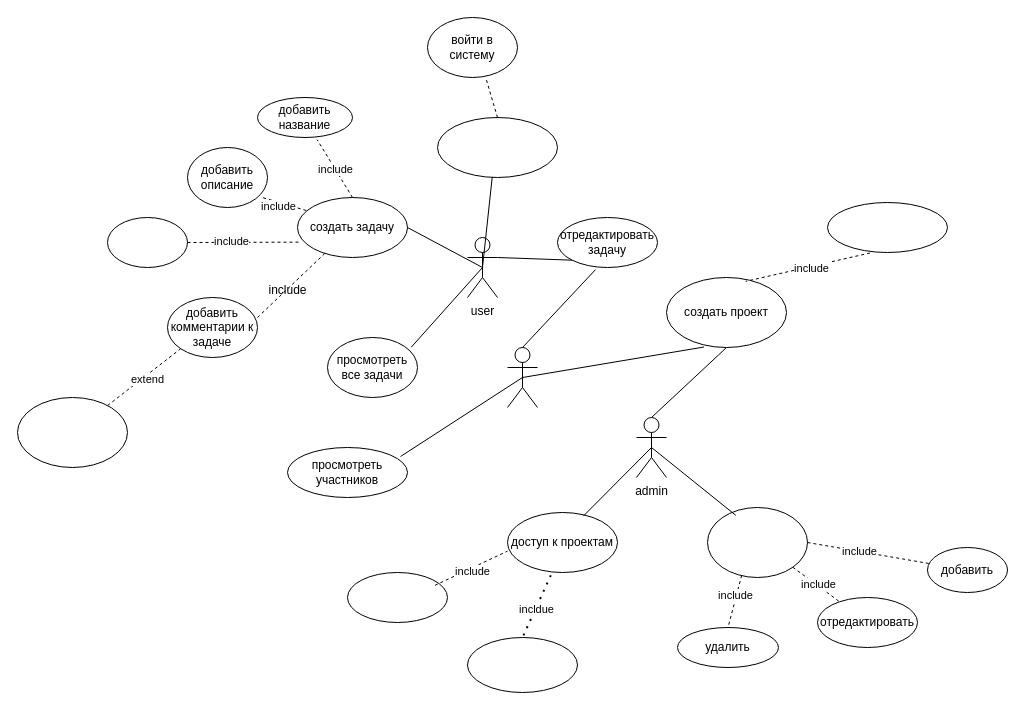
Some shapes in this 1025 by 710 pixel diagram are drawn without their labels. Here are the shapes that lost their labels. From the top down, the centre of each, then its label:
At point 497,147: "зарегистрироваться".
At point 147,242: "указать срок выполнения".
At point 887,227: "назначить участников".
At point 522,377: "project manager".
At point 72,432: "добавить файл к комментарию".
At point 757,542: "управление пользователями".
At point 397,597: "удалить проект".
At point 522,664: "изменить настройки разрешений".
